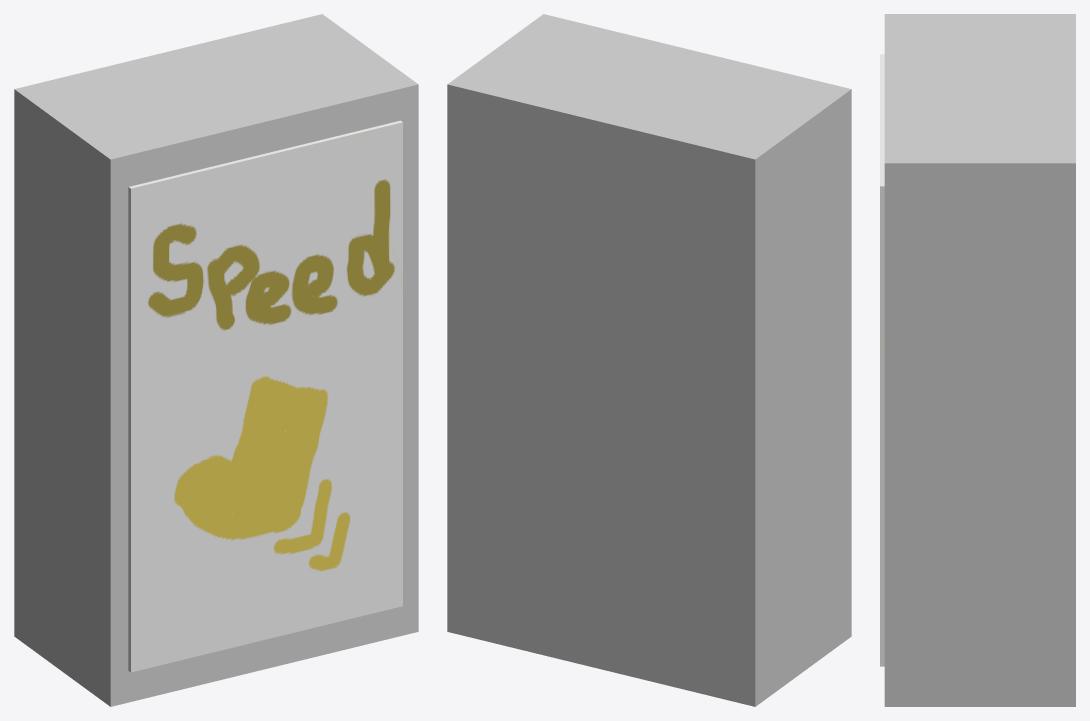
The model's file is Speed Upgrade.glb.
The picture shows the model from 3 angles, left to right: view 1: azimuth 30°, elevation 25°; view 2: azimuth 150°, elevation 25°; view 3: azimuth 270°, elevation 25°; orthographic projection.
Visible parts, largest first — view 1: Cube.001, Cube; view 2: Cube; view 3: Cube, Cube.001.
Part boxes in pixels (left/top/right/bottom): Cube.001: left=128, top=120, right=402, bottom=672; Cube: left=14, top=14, right=418, bottom=706; Cube: left=447, top=14, right=851, bottom=706; Cube: left=884, top=14, right=1075, bottom=706; Cube.001: left=880, top=54, right=884, bottom=666.
Bounding box in the file's own units: 1.07 × 1.81 × 0.5908.
2 materials, 1 textured.
